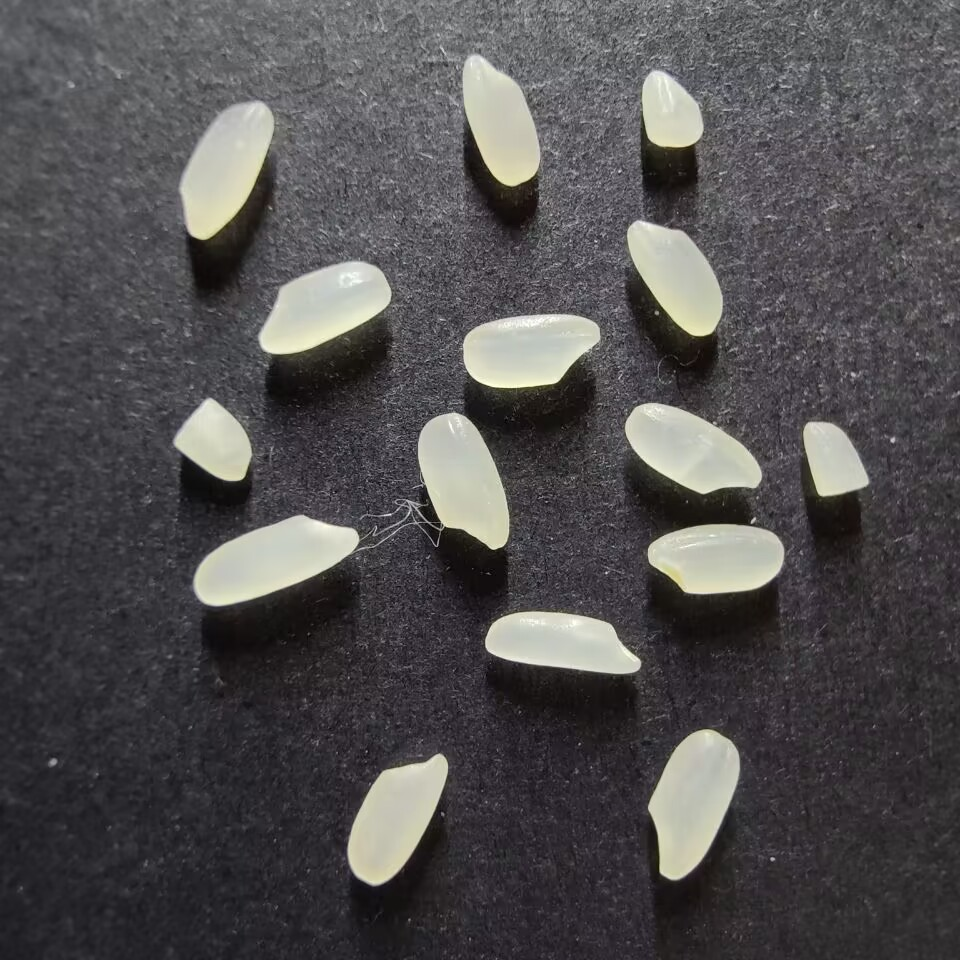broken: (172, 398, 252, 481), (801, 421, 870, 497), (640, 70, 704, 148)
rice: (193, 513, 359, 606), (646, 729, 740, 880), (346, 751, 448, 885), (180, 101, 274, 240), (418, 412, 510, 551), (624, 401, 761, 494), (258, 261, 392, 354), (626, 220, 724, 337), (461, 54, 541, 186), (462, 313, 602, 388), (484, 611, 642, 673), (646, 524, 783, 594)
